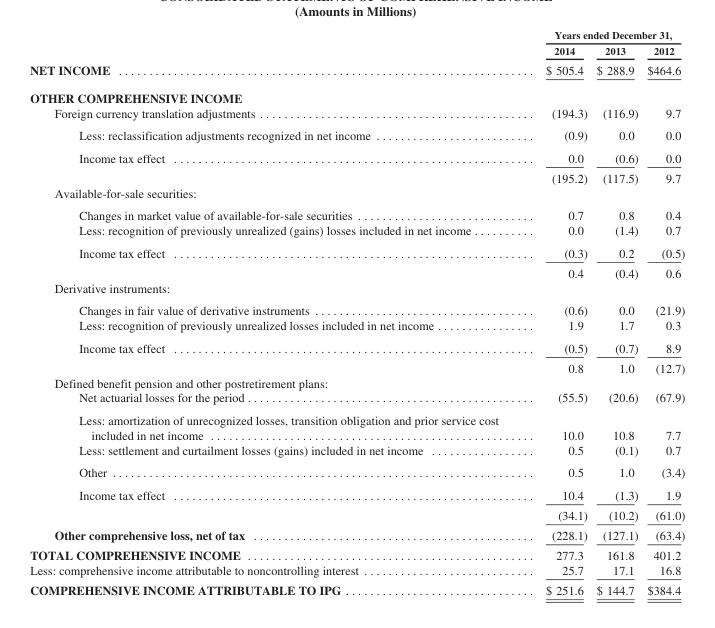table: (29, 28, 684, 596)
table column: (29, 28, 521, 596), (521, 28, 591, 596), (591, 28, 642, 596), (642, 28, 684, 596)
table column header: (29, 28, 684, 59)
table projected row header: (29, 83, 684, 104), (29, 184, 684, 203), (29, 279, 684, 298), (29, 374, 684, 389)
table row: (29, 408, 684, 442), (29, 59, 684, 83), (29, 123, 684, 146), (29, 460, 684, 483), (29, 83, 684, 104), (29, 146, 684, 167), (29, 241, 684, 262), (29, 336, 684, 357), (29, 483, 684, 504), (29, 504, 684, 524), (29, 524, 684, 544), (29, 104, 684, 123), (29, 184, 684, 203), (29, 203, 684, 222), (29, 222, 684, 241), (29, 279, 684, 298), (29, 298, 684, 317), (29, 317, 684, 336), (29, 389, 684, 408), (29, 442, 684, 460), (29, 544, 684, 562), (29, 42, 684, 59), (29, 167, 684, 184), (29, 262, 684, 279), (29, 357, 684, 374), (29, 562, 684, 579), (29, 579, 684, 596), (29, 374, 684, 389), (29, 28, 684, 42)
table spanning cell: (521, 28, 684, 42)
